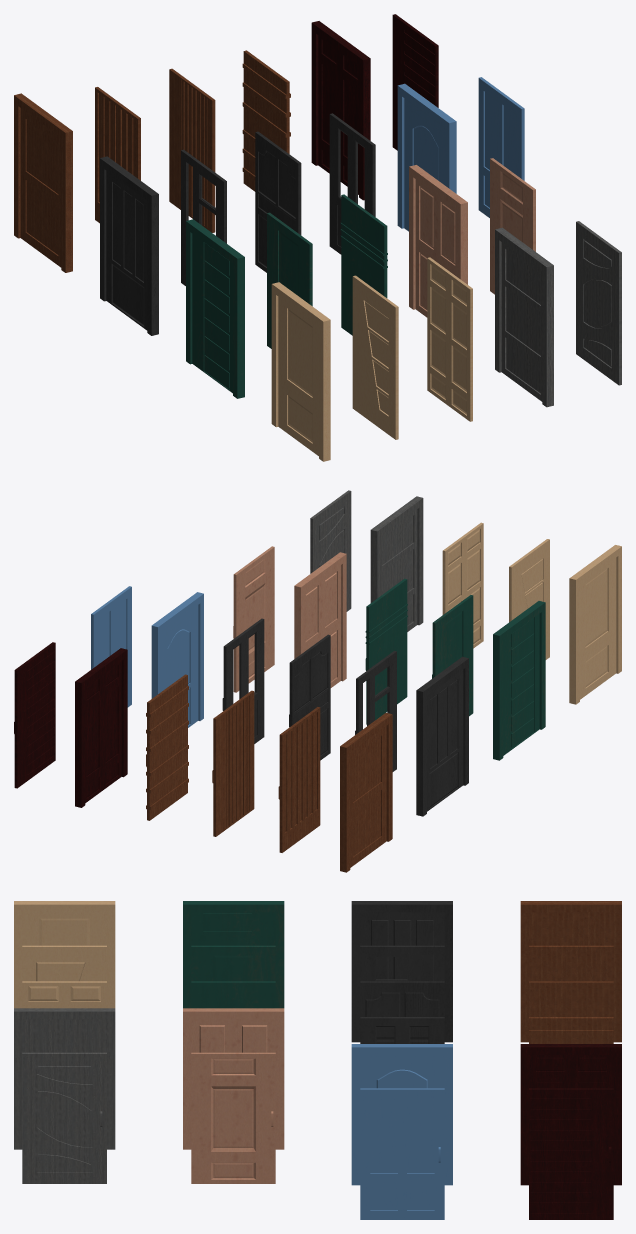
Rendered from modular_doors.fbx.
3 views of the same model, one above another, from view 1: azimuth 30°, elevation 25°; view 2: azimuth 150°, elevation 25°; view 3: azimuth 270°, elevation 25° (orthographic). The views are drawn at different scales.
Visible parts, largest first — view 1: door_10, door_11, door_2, door_19, door_1, door_15, door_9, door_12, door_21, door_22, door_14, door_17 (+18 smaller); view 2: door_21, door_20, door_8, door_22, door_12, door_19, door_7, door_15, door_9, door_4, door_14, door_17 (+18 smaller); view 3: door_2, door_4, door_6, door_8, door_15, door_17, doorway_2, doorway_7, doorway_3, doorway_1, doorway_8, doorway_4 (+18 smaller).
Part boxes in pixels (bbox=[...]): door_10: bbox=[352, 275, 398, 439]; door_11: bbox=[427, 257, 472, 421]; door_2: bbox=[576, 221, 621, 385]; door_19: bbox=[20, 108, 61, 267]; door_1: bbox=[501, 242, 542, 401]; door_15: bbox=[106, 171, 147, 330]; door_9: bbox=[278, 297, 318, 455]; door_12: bbox=[192, 234, 232, 393]; door_21: bbox=[169, 68, 215, 232]; door_22: bbox=[242, 50, 290, 191]; door_14: bbox=[340, 194, 387, 335]; door_17: bbox=[255, 131, 301, 272]; door_21: bbox=[212, 690, 254, 836]; door_20: bbox=[278, 707, 320, 852]; door_8: bbox=[14, 642, 55, 788]; door_22: bbox=[146, 674, 188, 820]; door_12: bbox=[503, 614, 539, 755]; door_19: bbox=[350, 726, 386, 867]; door_7: bbox=[85, 661, 121, 802]; door_15: bbox=[427, 670, 463, 811]; door_9: bbox=[580, 558, 616, 699]; door_4: bbox=[233, 546, 274, 692]; door_14: bbox=[365, 578, 407, 724]; door_17: bbox=[289, 634, 330, 760]; door_2: bbox=[22, 1052, 106, 1183]; door_4: bbox=[191, 1052, 275, 1183]; door_6: bbox=[360, 1088, 444, 1219]; door_8: bbox=[529, 1088, 613, 1219]; door_15: bbox=[360, 912, 444, 981]; door_17: bbox=[360, 981, 444, 1043]; doorway_2: bbox=[183, 1008, 284, 1149]; doorway_7: bbox=[351, 901, 452, 1042]; doorway_3: bbox=[351, 1044, 452, 1185]; doorway_1: bbox=[14, 1008, 115, 1149]; doorway_8: bbox=[520, 901, 621, 1042]; doorway_4: bbox=[520, 1044, 621, 1185].
Size of the model in its own units: 510 by 180 by 720.
Materials: 1 (1 with a texture image).
